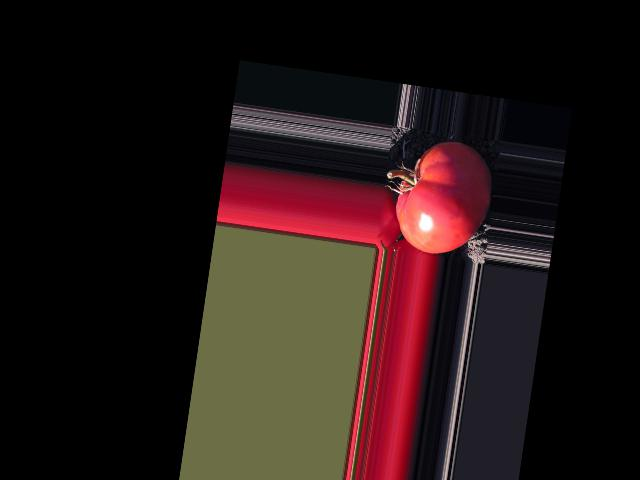tomato: (391, 134, 498, 260)
